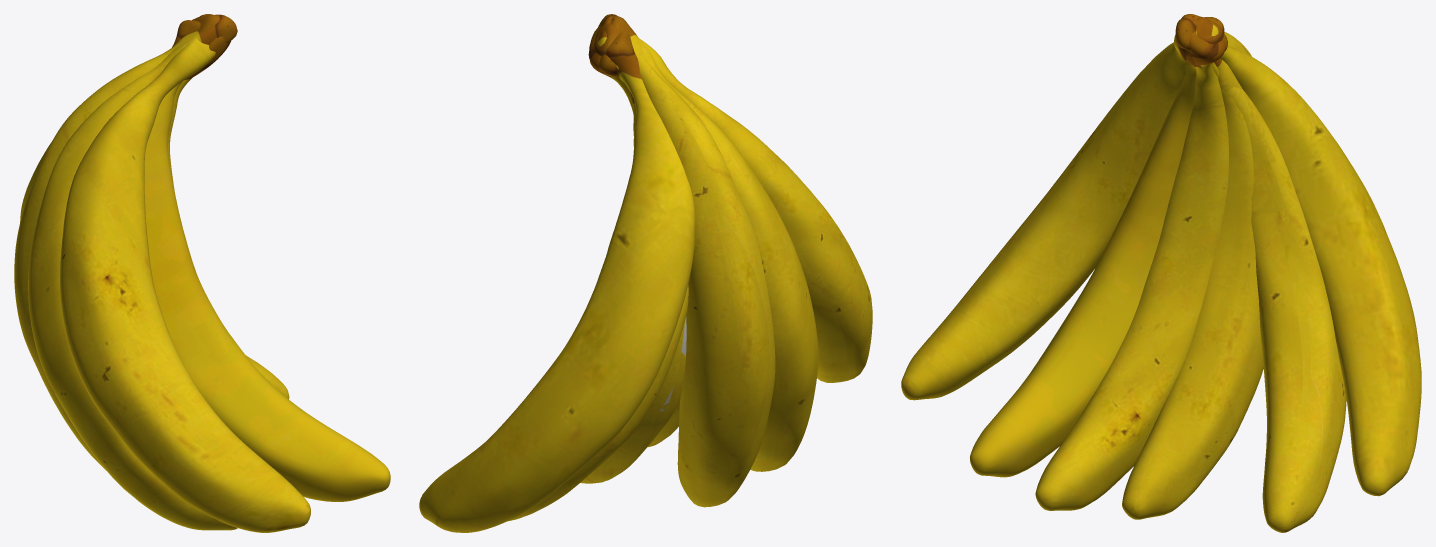
Rendered from ripePlantain_1.fbx.
3 renders of one model, left to right at view 1: azimuth 30°, elevation 25°; view 2: azimuth 150°, elevation 25°; view 3: azimuth 270°, elevation 25°, orthographic. The views are drawn at different scales.
Visible parts, largest first — view 1: node_id27, node_id12, node_id24, node_id18, node_id15, node_id21; view 2: node_id21, node_id18, node_id27, node_id24, node_id6, node_id15, node_id9; view 3: node_id21, node_id27, node_id9, node_id15, node_id6, node_id12, node_id18.
Boxes of the visible parts, x1=… form: node_id27: x1=60, y1=38, x2=310, y2=532; node_id12: x1=144, y1=14, x2=390, y2=501; node_id24: x1=28, y1=36, x2=237, y2=530; node_id18: x1=14, y1=14, x2=237, y2=470; node_id15: x1=185, y1=36, x2=289, y2=398; node_id21: x1=20, y1=20, x2=200, y2=222; node_id21: x1=419, y1=30, x2=695, y2=532; node_id18: x1=598, y1=14, x2=775, y2=507; node_id27: x1=620, y1=39, x2=872, y2=382; node_id24: x1=616, y1=35, x2=818, y2=471; node_id6: x1=580, y1=16, x2=686, y2=483; node_id15: x1=508, y1=81, x2=688, y2=521; node_id9: x1=588, y1=26, x2=679, y2=447; node_id21: x1=1204, y1=17, x2=1421, y2=496; node_id27: x1=901, y1=35, x2=1190, y2=400; node_id9: x1=1035, y1=31, x2=1228, y2=510; node_id15: x1=1175, y1=35, x2=1346, y2=532; node_id6: x1=1122, y1=14, x2=1263, y2=519; node_id12: x1=970, y1=17, x2=1227, y2=477; node_id18: x1=1175, y1=18, x2=1251, y2=56.
Bounding box in the file's own units: 11.58 × 16.83 × 16.91.
Materials: 8 (8 with a texture image).
